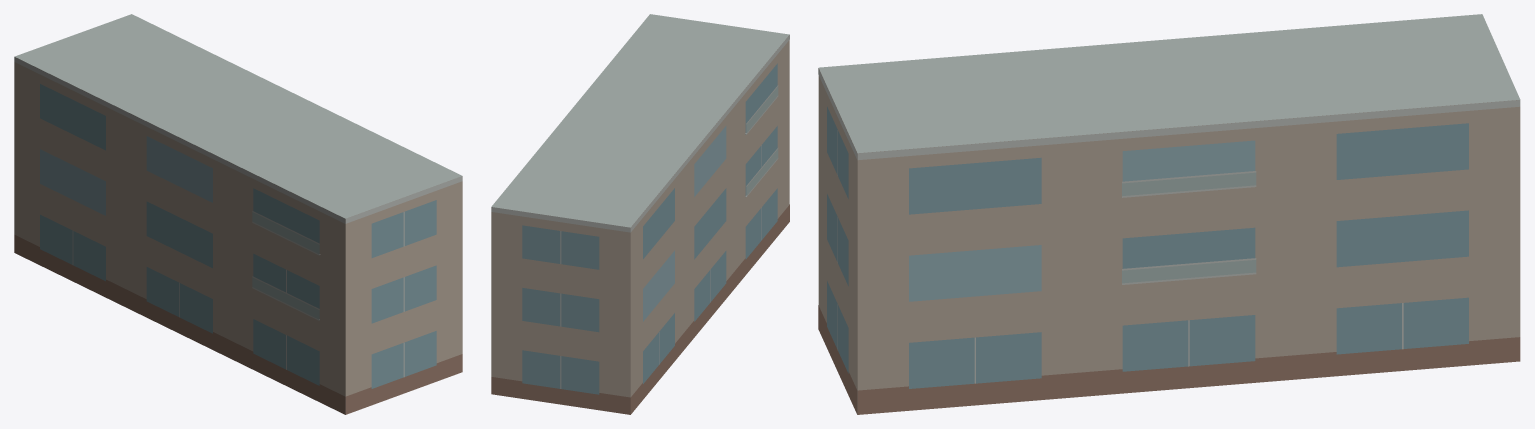
The model's file is survey-upis-32708126.glb.
3 renders of one model, left to right at view 1: azimuth 30°, elevation 25°; view 2: azimuth 150°, elevation 25°; view 3: azimuth 270°, elevation 25°, orthographic. The views are drawn at different scales.
Visible parts, largest first — view 1: survey-upis-32708126.tmp; view 2: survey-upis-32708126.tmp; view 3: survey-upis-32708126.tmp.
Boxes of the visible parts, left/top/right/bottom form: survey-upis-32708126.tmp: left=14, top=14, right=462, bottom=414; survey-upis-32708126.tmp: left=491, top=14, right=789, bottom=414; survey-upis-32708126.tmp: left=818, top=14, right=1520, bottom=414.
Bounding box in the file's own units: 10.46 × 9.15 × 22.26.
